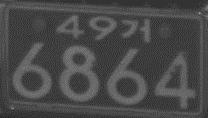4: (153, 49, 196, 109), (54, 13, 85, 39)
6: (105, 47, 147, 106), (12, 41, 52, 100)
8: (58, 44, 99, 103)
9: (89, 14, 117, 41)
거: (120, 17, 151, 42)
